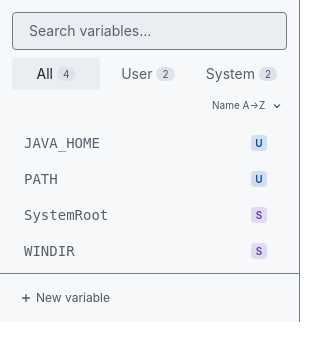
Sidebar › shows empty state when no match
Type "ZZZNOMATCH" into the field with placeholder "Search variables...". click: (150, 31)
box: x1=12 y1=12 x2=287 y2=50
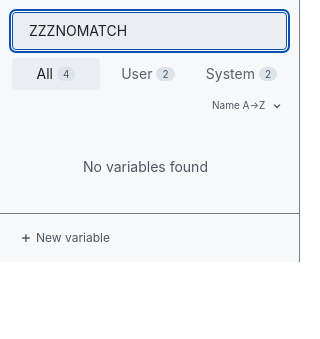
Now the text "No variables found" is shown, box x1=83 y1=158 x2=208 y2=175
